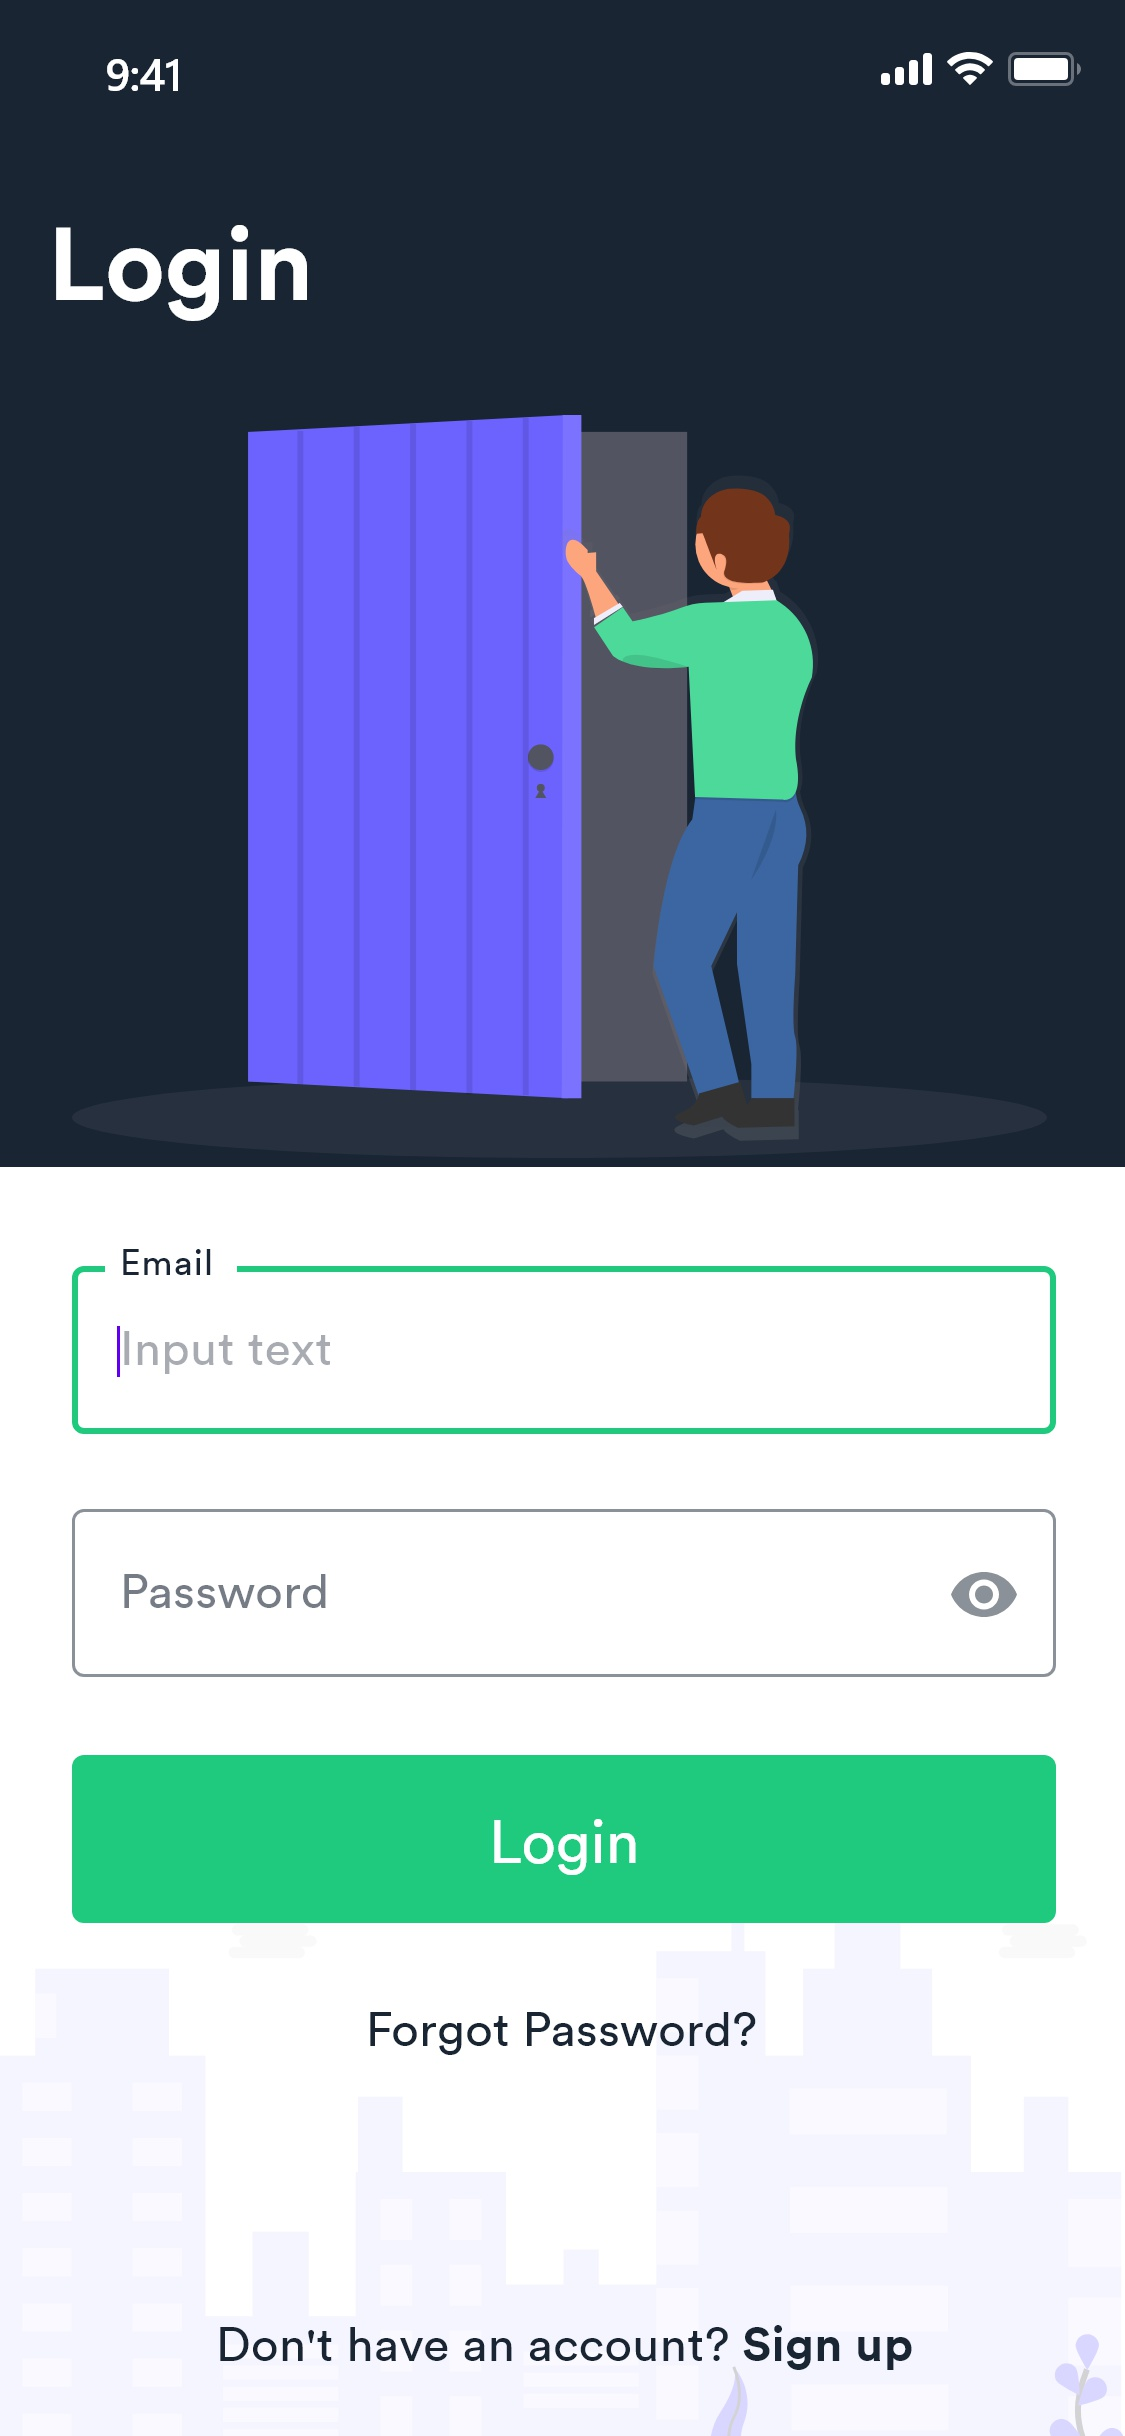EditText: (73, 1249, 1057, 1435), (71, 1510, 1057, 1678)
Icon: (951, 1574, 1016, 1617)
Image: (71, 413, 1047, 1159)
Text: (56, 225, 308, 323), (221, 2326, 729, 2361), (371, 2012, 757, 2055), (124, 1331, 331, 1375), (743, 2324, 912, 2371), (124, 1575, 326, 1609), (124, 1249, 211, 1275)
TextButton: (73, 1756, 1057, 1923)
UpperTaskBar: (106, 51, 1083, 95)
